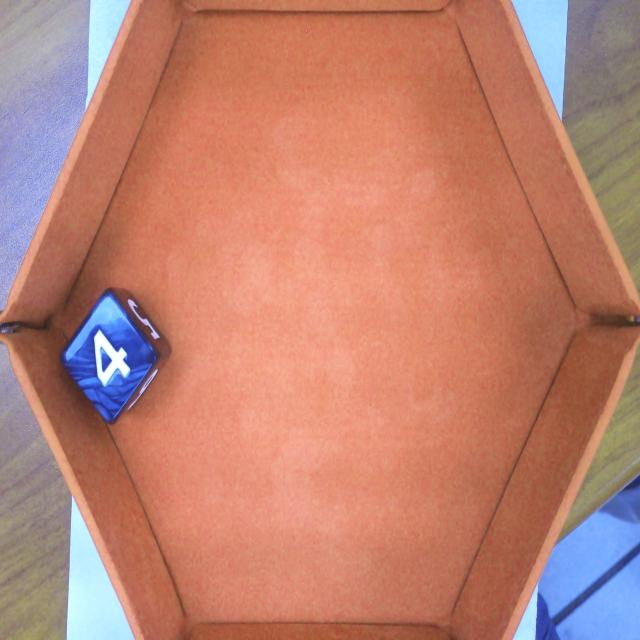dice: (68, 302, 152, 418)
